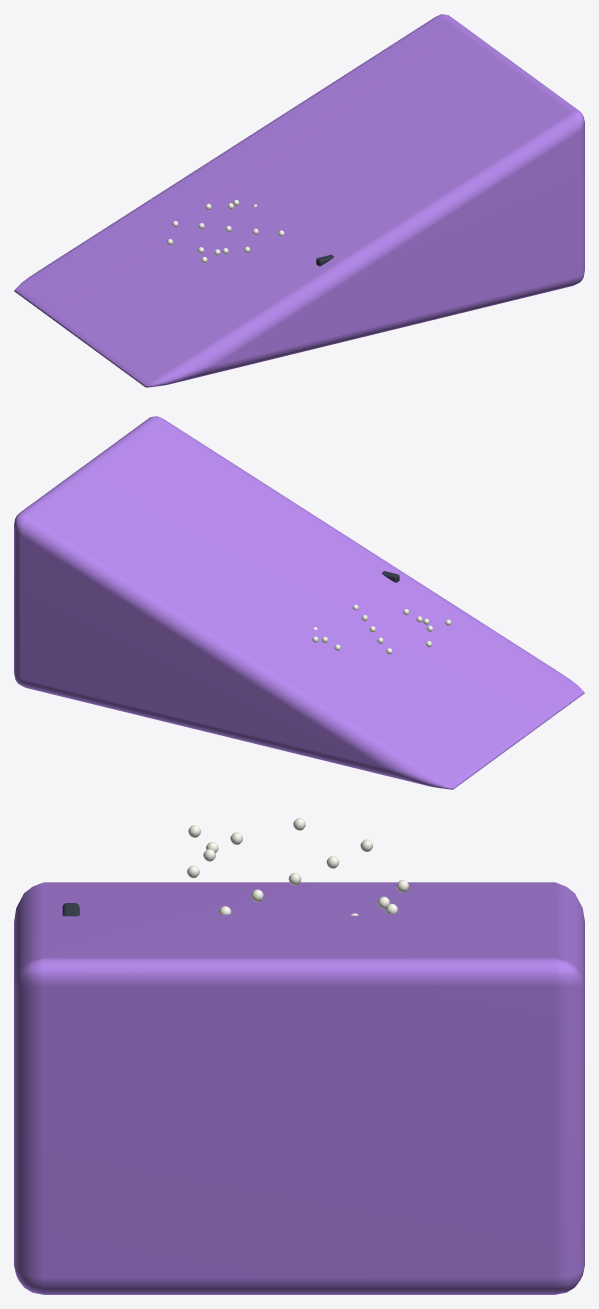
Rendered from Schaumstoffkeil_Lila_3D.glb.
3 renders of one model, top to bottom at view 1: azimuth 30°, elevation 25°; view 2: azimuth 150°, elevation 25°; view 3: azimuth 270°, elevation 25°, orthographic. The views are drawn at different scales.
Visible parts, largest first — view 1: purple individual wedge small foam block; view 2: purple individual wedge small foam block; view 3: purple individual wedge small foam block.
Part boxes in pixels (<box>): purple individual wedge small foam block: <box>14,14,584,387</box>; purple individual wedge small foam block: <box>14,416,584,789</box>; purple individual wedge small foam block: <box>14,882,584,1294</box>.
Bounding box in the file's own units: 0.9341 × 0.3531 × 0.54.
